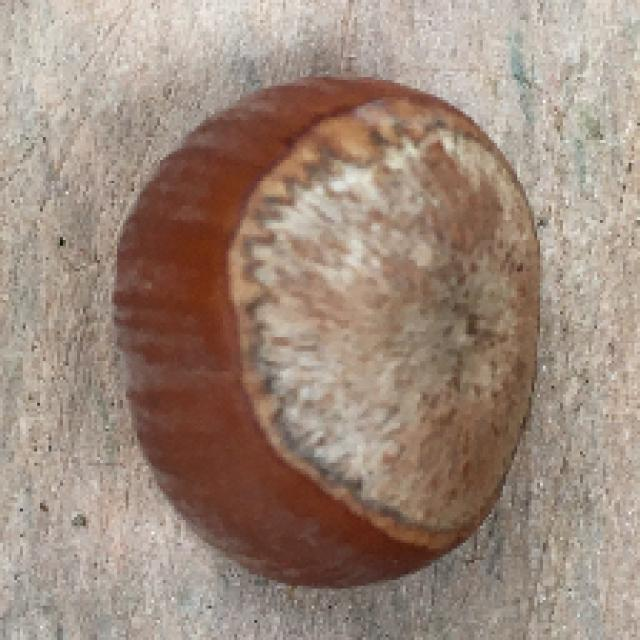qualityHazelnut: (100, 76, 548, 591)
